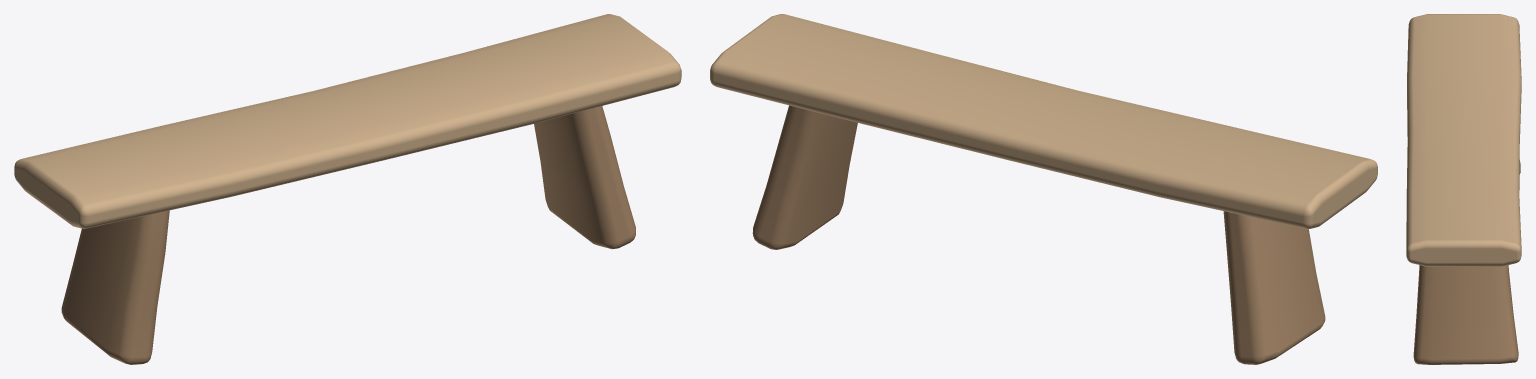
The model's file is pt_bench_1.glb.
The picture shows the model from 3 angles, left to right: view 1: azimuth 30°, elevation 25°; view 2: azimuth 150°, elevation 25°; view 3: azimuth 270°, elevation 25°; orthographic projection. The views are drawn at different scales.
Visible parts, largest first — view 1: pt_bench_1_plank, pt_bench_1_timber; view 2: pt_bench_1_plank, pt_bench_1_timber; view 3: pt_bench_1_plank, pt_bench_1_timber.
Boxes of the visible parts, x1,y1,x2,y2 form: pt_bench_1_plank: (14,14,681,228); pt_bench_1_timber: (61,106,635,364); pt_bench_1_plank: (710,14,1377,229); pt_bench_1_timber: (752,105,1325,364); pt_bench_1_plank: (1406,14,1521,266); pt_bench_1_timber: (1413,160,1520,364).
Bounding box in the file's own units: 1.69 × 0.4891 × 0.3569.
